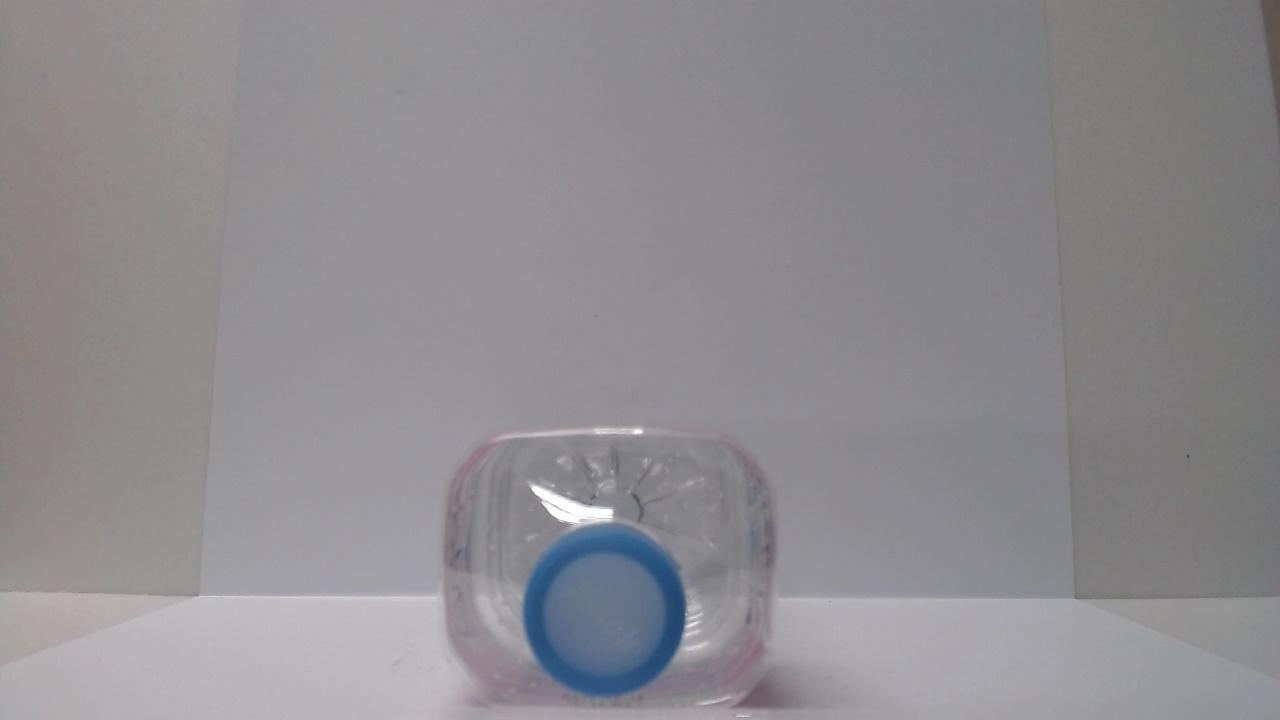bottle: (429, 419, 787, 720)
